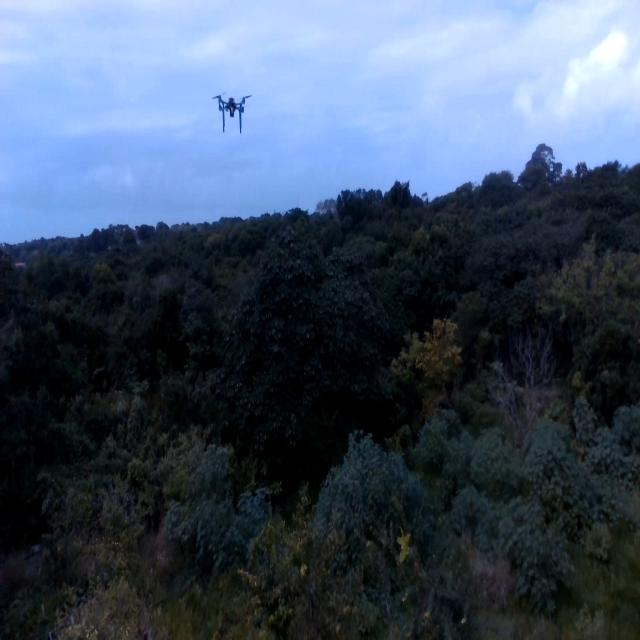-uav-: (209, 79, 259, 147)
